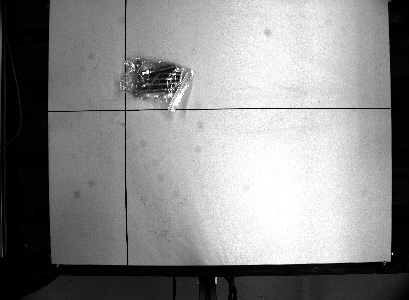t2: (116, 50, 200, 113)
